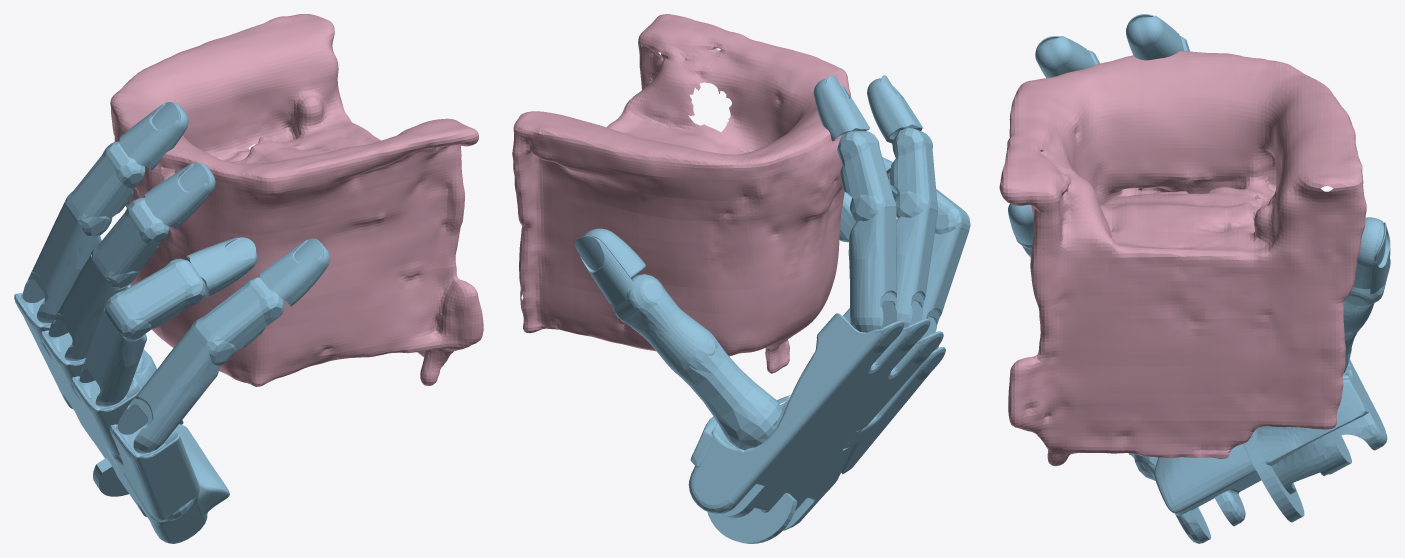
3 views of the same model, side by side, from view 1: azimuth 30°, elevation 25°; view 2: azimuth 150°, elevation 25°; view 3: azimuth 270°, elevation 25° (orthographic). The views are drawn at different scales.
Parts seen in each view (by area): view 1: world, hand_isaac_q; view 2: world, hand_isaac_q; view 3: world, hand_isaac_q.
Boxes of the visible parts, box(x1,y1,x2,y2) form: world: box(110, 14, 483, 386); hand_isaac_q: box(14, 102, 329, 543); world: box(512, 14, 850, 373); hand_isaac_q: box(575, 75, 970, 543); world: box(999, 51, 1366, 466); hand_isaac_q: box(1008, 14, 1390, 543).
Size of the model in its own units: 0.1645 by 0.1999 by 0.1386.
